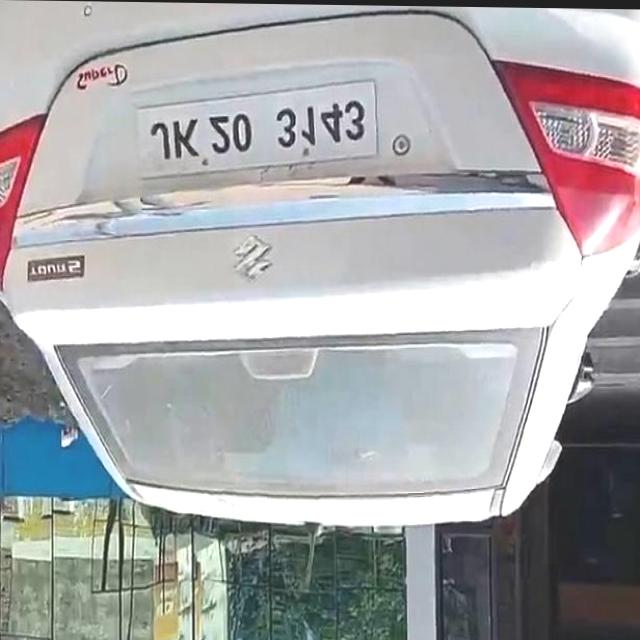0: (232, 111, 254, 152)
1: (302, 101, 320, 146)
2: (210, 112, 232, 155)
3: (274, 104, 298, 148), (344, 95, 366, 142)
4: (320, 98, 344, 144)
j: (149, 119, 172, 163)
k: (174, 116, 202, 161)
